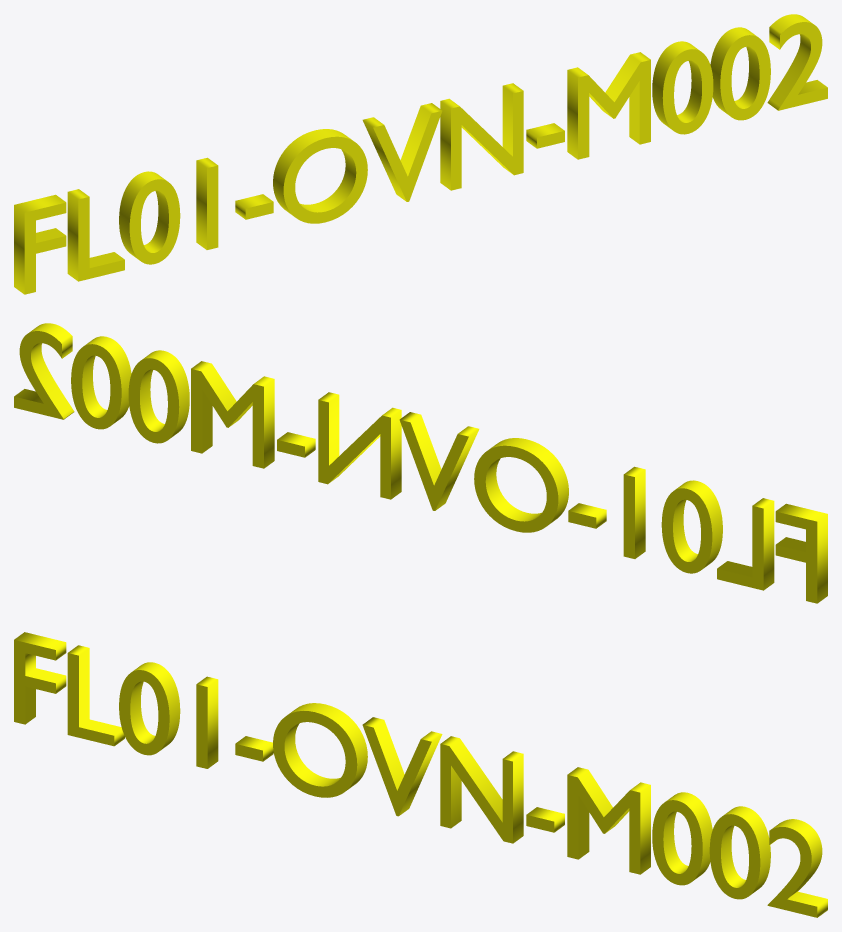
The model's file is FL01-OVN-M002.glb.
The picture shows the model from 3 angles, top to bottom: view 1: azimuth 30°, elevation 25°; view 2: azimuth 150°, elevation 25°; view 3: azimuth 330°, elevation 25°; orthographic projection.
Visible parts, largest first — view 1: Text; view 2: Text; view 3: Text.
Part boxes in pixels (x1=…): Text: x1=14, y1=14, x2=827, y2=294; Text: x1=14, y1=323, x2=827, y2=603; Text: x1=14, y1=632, x2=827, y2=917.
Bounding box in the file's own units: 6.98 × 0.7 × 0.16.
